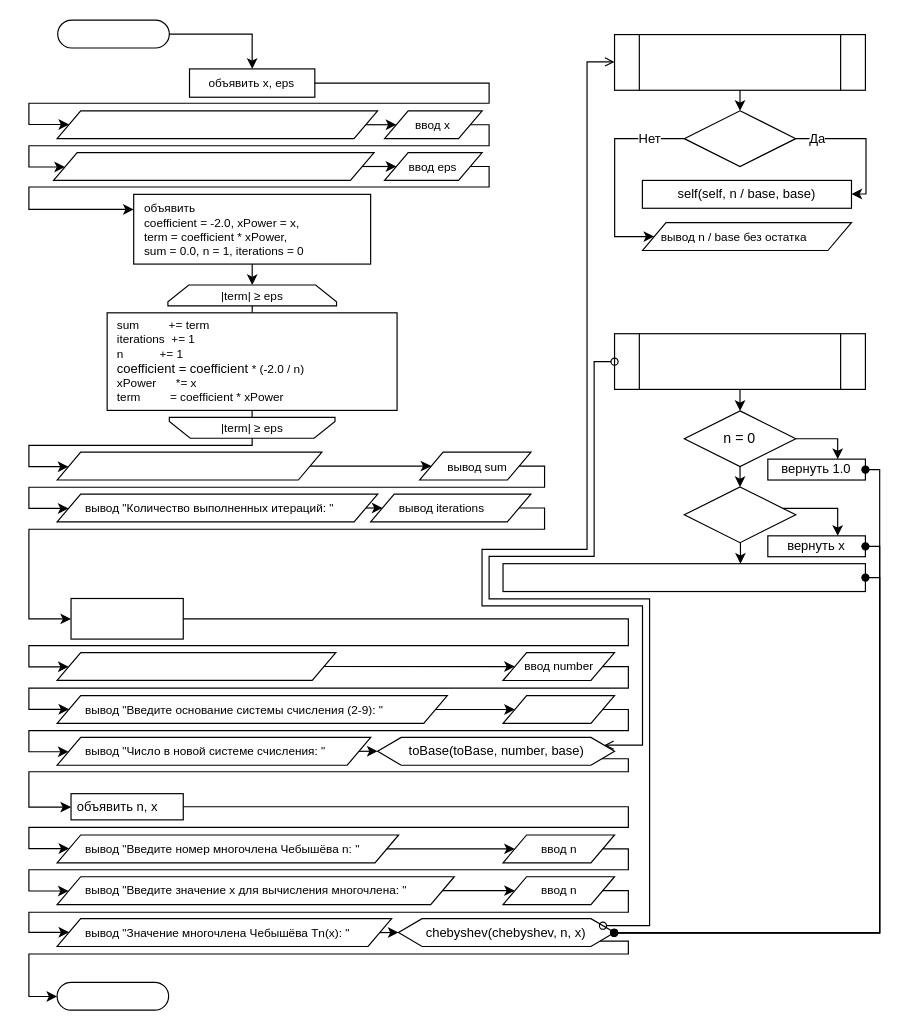
Some shapes in this 911 by 1031 pixel diagram are drawn without their labels. The shapes that lost their labels are listed below. From the top down, each one's box as (x1, y1, x2, y2) in pixels, then its label:
(57, 19, 169, 48): начало
(613, 33, 865, 90): функция toBase (вход: авто self, число n, число base )
(56, 110, 378, 139): вывод "Введите значение x: "
(683, 110, 796, 166): n ≥ base
(52, 151, 374, 180): вывод "Введите точность вычисления eps: "
(613, 333, 865, 389): функция chebyshev (вход: авто self, число n, число x )
(56, 451, 322, 480): вывод "Приближенная сумма ряда: "
(683, 486, 796, 543): n = 1
(502, 563, 865, 592): вернуть 2*x*self(self, n-1, x)-self(self, n-2, x)
(70, 597, 183, 639): объявить number, base
(56, 651, 336, 680): вывод "Введите натуральное число: "
(502, 694, 615, 723): ввод base
(56, 981, 169, 1010): конец
